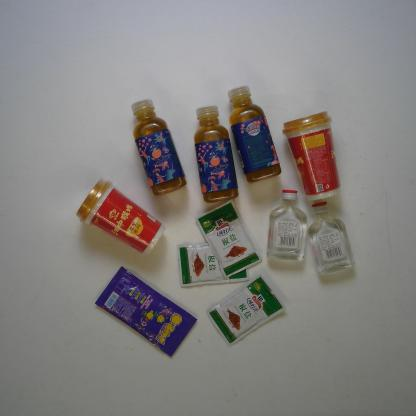Alcohol: (305, 197, 356, 281), (264, 188, 309, 269)
Candy: (88, 263, 199, 359)
Drink: (222, 82, 287, 184), (128, 97, 188, 198), (192, 102, 240, 205)
Instant Drink: (72, 176, 168, 256), (279, 109, 345, 202)
Seasoner: (203, 264, 293, 348), (192, 199, 263, 281), (172, 238, 252, 288)
